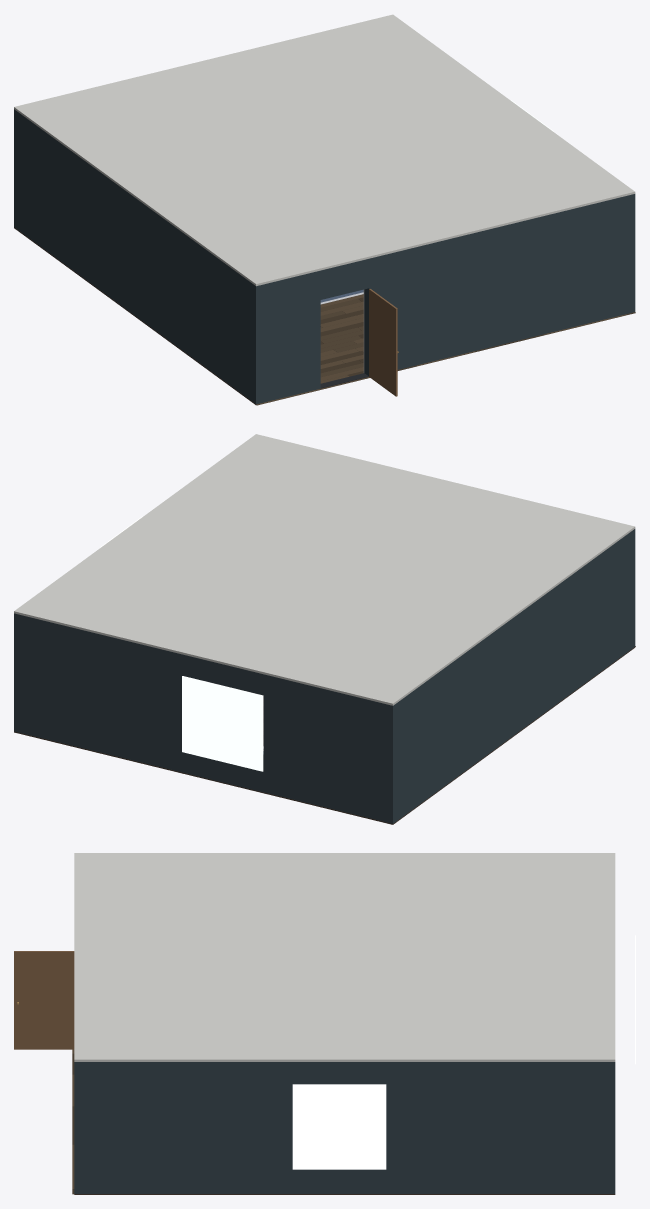
File: apartment.glb
3 views of the same model, one above another, from view 1: azimuth 30°, elevation 25°; view 2: azimuth 150°, elevation 25°; view 3: azimuth 270°, elevation 25° (orthographic). The views are drawn at different scales.
Parts seen in each view (by area): view 1: apartment_room; view 2: apartment_room; view 3: apartment_room.
Boxes of the visible parts, <box> form: apartment_room: <box>14,14,635,405</box>; apartment_room: <box>14,434,635,824</box>; apartment_room: <box>14,853,635,1194</box>.
Size of the model in its own units: 9.8 by 2.87 by 11.96.
